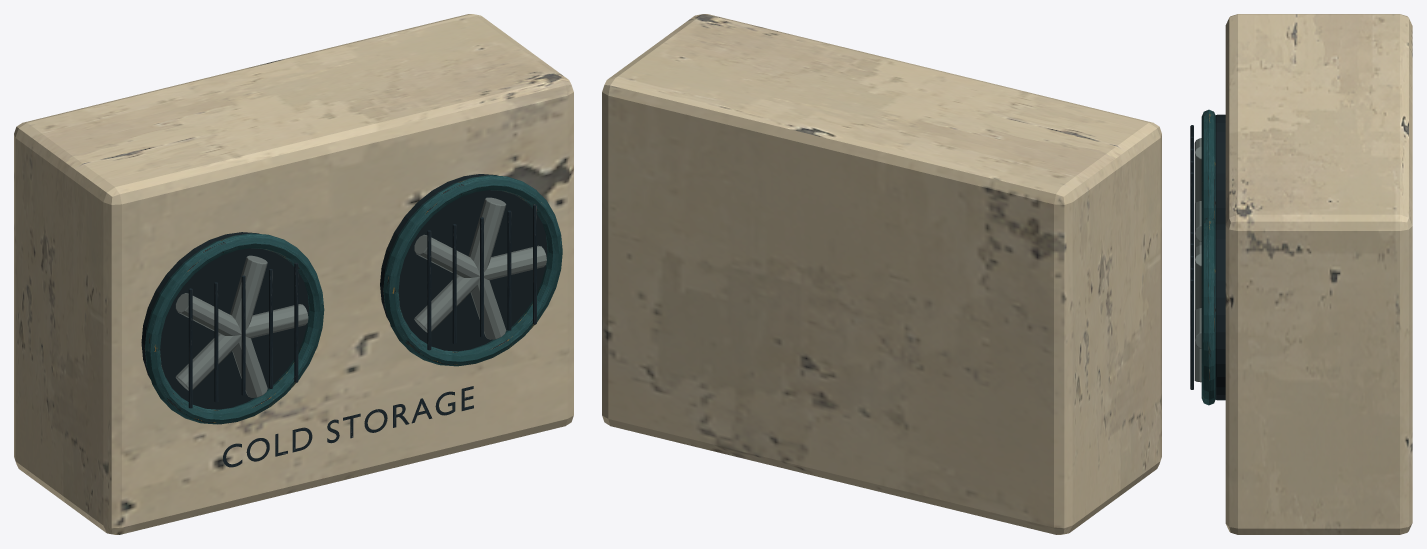
The model's file is refrigeration-unit.glb.
3 renders of one model, left to right at view 1: azimuth 30°, elevation 25°; view 2: azimuth 150°, elevation 25°; view 3: azimuth 270°, elevation 25°, orthographic. The views are drawn at different scales.
Parts seen in each view (by area): view 1: refrigeration-unit__refrigeration-unit__ivory, refrigeration-unit__refrigeration-unit__rubber, refrigeration-unit__refrigeration-unit__petrol, refrigeration-unit__refrigeration-unit__hardware, refrigeration-unit__refrigeration-unit__steel; view 2: refrigeration-unit__refrigeration-unit__ivory; view 3: refrigeration-unit__refrigeration-unit__ivory, refrigeration-unit__refrigeration-unit__petrol, refrigeration-unit__refrigeration-unit__rubber, refrigeration-unit__refrigeration-unit__hardware, refrigeration-unit__refrigeration-unit__steel.
Part boxes in pixels (x1=…): refrigeration-unit__refrigeration-unit__ivory: x1=14, y1=14, x2=573, y2=534; refrigeration-unit__refrigeration-unit__rubber: x1=141, y1=174, x2=547, y2=409; refrigeration-unit__refrigeration-unit__petrol: x1=145, y1=175, x2=562, y2=424; refrigeration-unit__refrigeration-unit__hardware: x1=175, y1=197, x2=546, y2=397; refrigeration-unit__refrigeration-unit__steel: x1=188, y1=204, x2=536, y2=467; refrigeration-unit__refrigeration-unit__ivory: x1=602, y1=14, x2=1161, y2=534; refrigeration-unit__refrigeration-unit__ivory: x1=1225, y1=14, x2=1412, y2=534; refrigeration-unit__refrigeration-unit__petrol: x1=1201, y1=109, x2=1215, y2=405; refrigeration-unit__refrigeration-unit__rubber: x1=1215, y1=114, x2=1225, y2=400; refrigeration-unit__refrigeration-unit__hardware: x1=1194, y1=138, x2=1201, y2=382; refrigeration-unit__refrigeration-unit__steel: x1=1190, y1=125, x2=1193, y2=389.
Bounding box in the file's own units: 2.4 × 1.7 × 1.07.
Materials: 5 (3 with a texture image).
